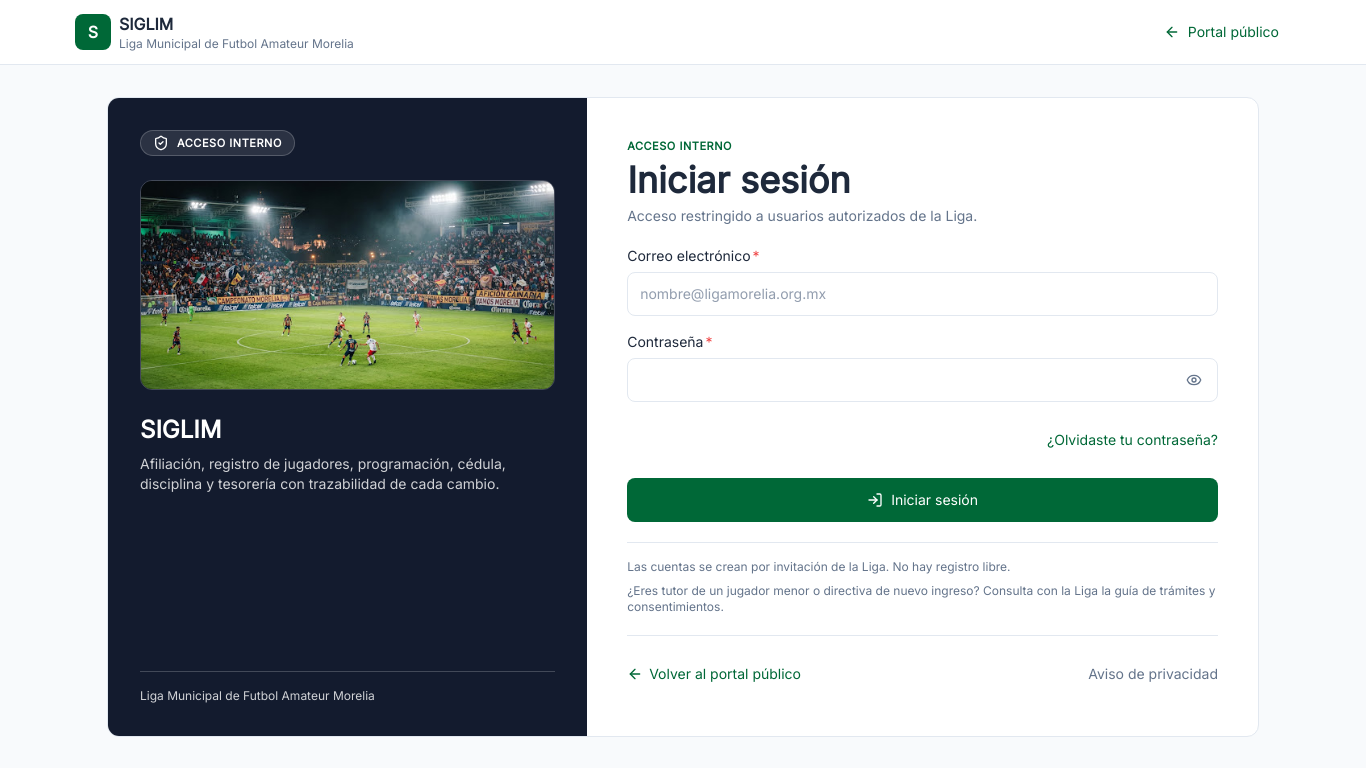
InicioSesion › H-01.2: solicita el enlace de recuperación sin revelar si la cuenta existe
Click the button "¿Olvidaste tu contraseña?".
click(1132, 440)  # box [1047,418,1218,462]
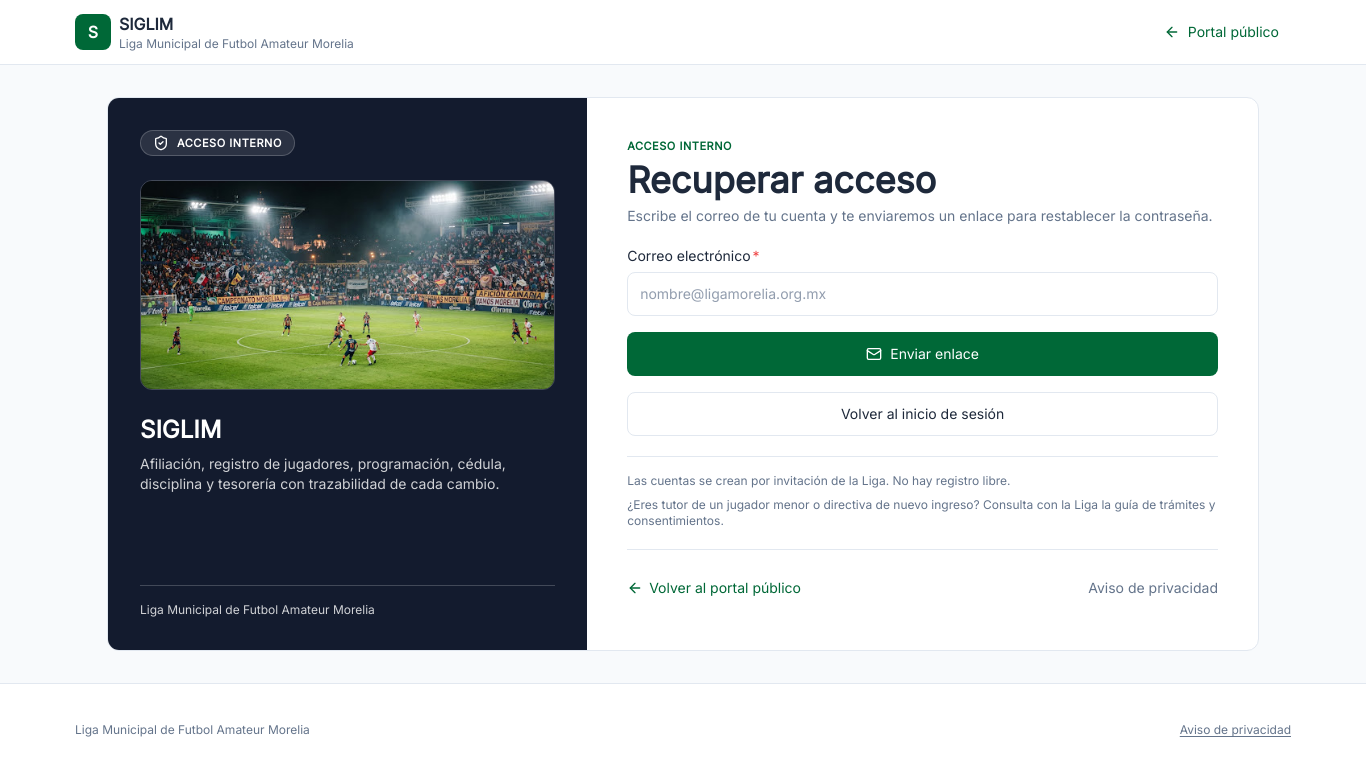
Check: the heading "Recuperar acceso" is shown, box [627,158,936,202]
Type "ana@ejemplo.mx" into the field labelled "Correo electrónico*".
click(923, 294); type("ana@ejemplo.mx")  # box [627,272,1218,316]
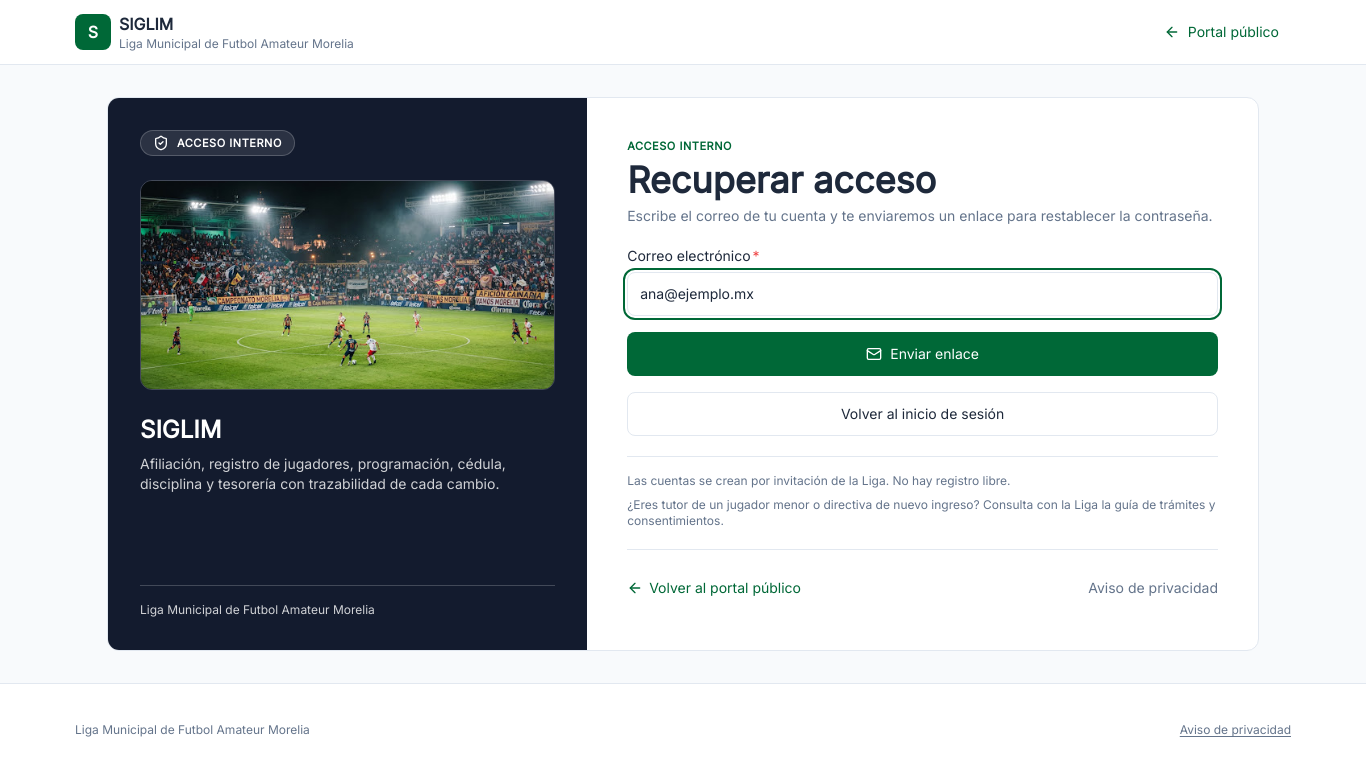
Click the button "Enviar enlace".
click(923, 354)  # box [627,332,1218,376]
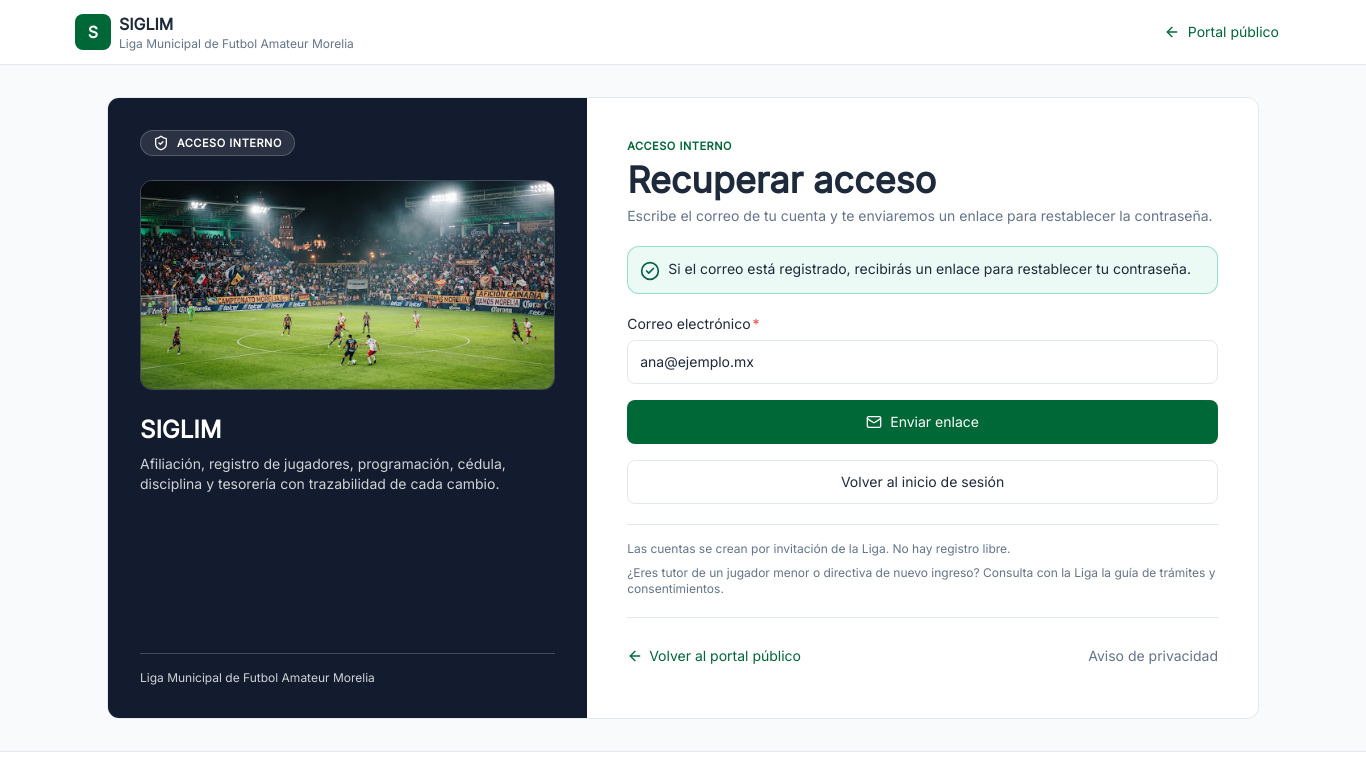
Check: the message shows "Si el correo está registrado", box [668,260,1191,277]
